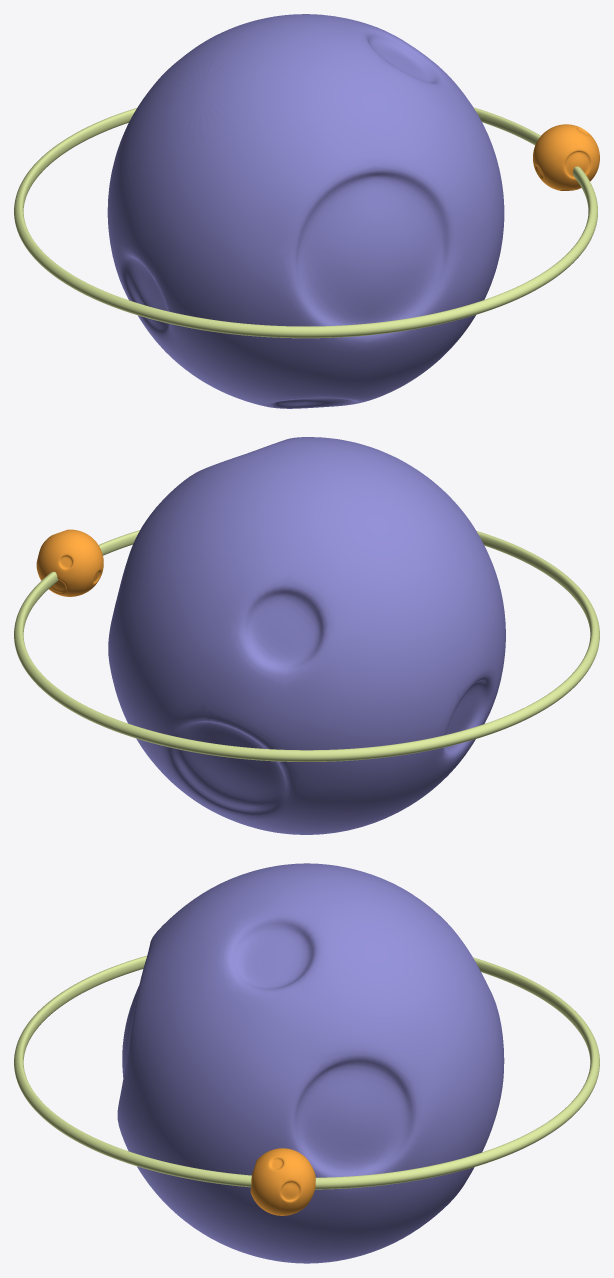
File: planet-fun-loading-animated-3d-icon-900585154148.glb
3 views of the same model, one above another, from view 1: azimuth 30°, elevation 25°; view 2: azimuth 150°, elevation 25°; view 3: azimuth 270°, elevation 25° (orthographic).
Parts seen in each view (by area): view 1: Planet, Orbit, Planet.002; view 2: Planet, Orbit, Planet.002; view 3: Planet, Orbit, Planet.002.
Boxes of the visible parts, <box> form: Planet: <box>107,14,504,408</box>; Orbit: <box>14,107,597,338</box>; Planet.002: <box>533,124,599,190</box>; Planet: <box>108,437,505,834</box>; Orbit: <box>14,530,599,761</box>; Planet.002: <box>36,529,103,596</box>; Planet: <box>117,863,504,1263</box>; Orbit: <box>14,955,599,1189</box>; Planet.002: <box>250,1148,315,1215</box>.
Size of the model in its own units: 3.05 by 1.98 by 2.91.
